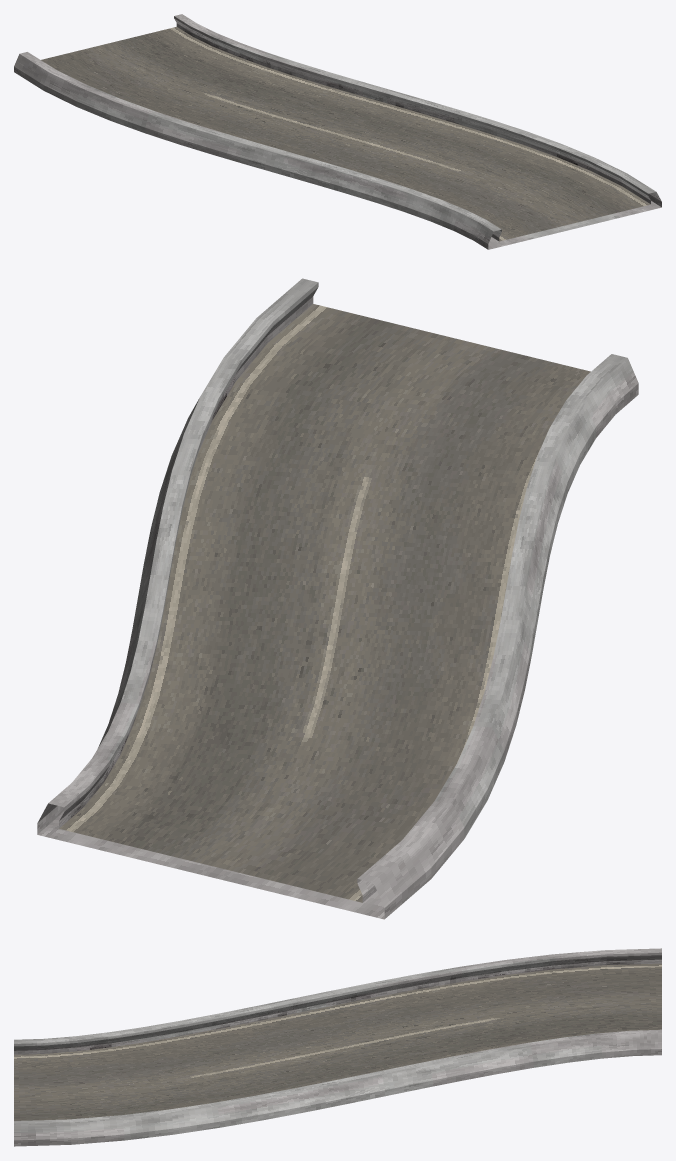
The model's file is chicane-left1x3.glb.
3 views of the same model, one above another, from view 1: azimuth 30°, elevation 25°; view 2: azimuth 150°, elevation 25°; view 3: azimuth 270°, elevation 25° (orthographic). The views are drawn at different scales.
Visible parts, largest first — view 1: road-Chicane-Flat-Flat-Even-Left1-Size3; view 2: road-Chicane-Flat-Flat-Even-Left1-Size3; view 3: road-Chicane-Flat-Flat-Even-Left1-Size3.
Boxes of the visible parts, x1=… form: road-Chicane-Flat-Flat-Even-Left1-Size3: x1=14, y1=14, x2=661, y2=249; road-Chicane-Flat-Flat-Even-Left1-Size3: x1=37, y1=278, x2=638, y2=919; road-Chicane-Flat-Flat-Even-Left1-Size3: x1=14, y1=948, x2=661, y2=1146.
Size of the model in its own units: 2 by 0.0938 by 3.
Materials: 2 (2 with a texture image).
